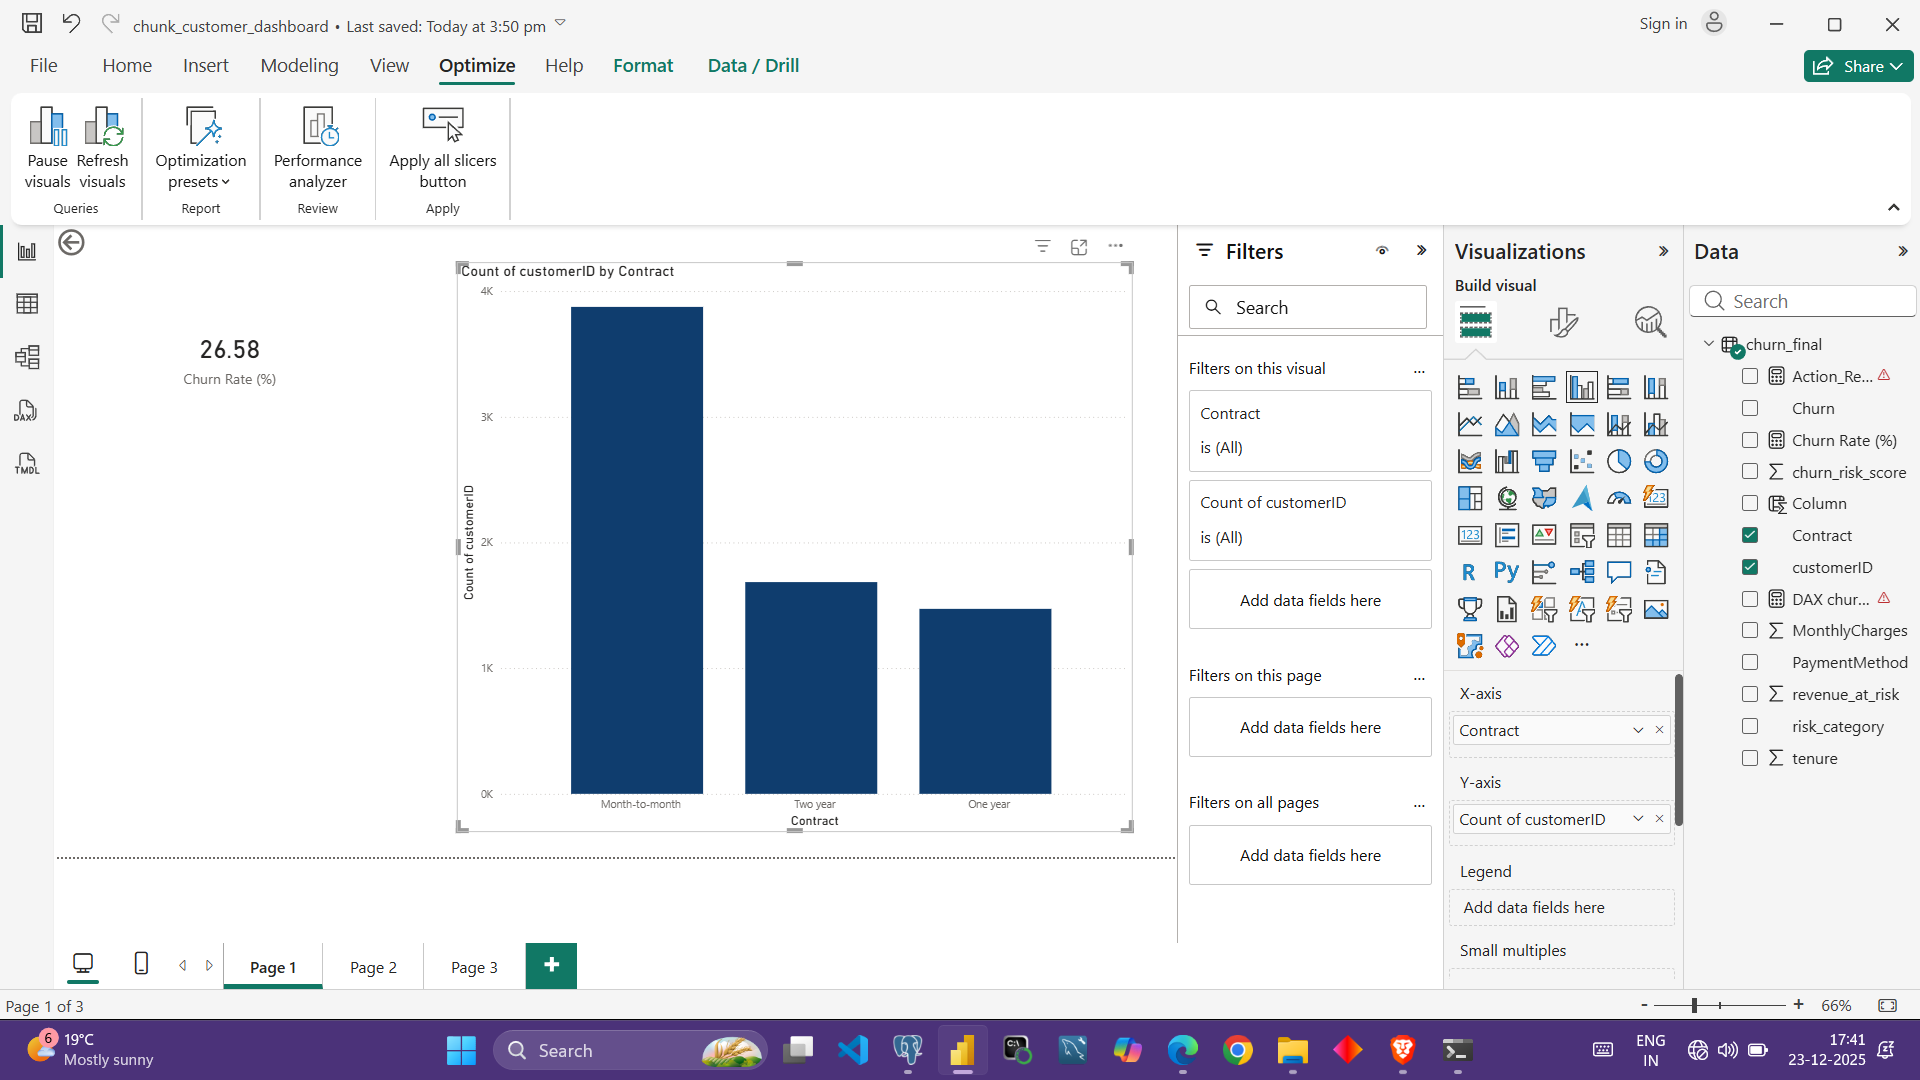

The dashboard page shown, as its layout file describes it:
{"tool":"powerbi","page":{"name":"Page 1","canvas":[1280,720],"ordinal":0},"visuals":[{"type":"clusteredColumnChart","fields":{"Category":["churn_final.Contract"],"Y":["CountNonNull(churn_final.customerID)"]},"box":[459.1,42.3,770.2,649.4],"z":1000},{"type":"card","fields":{"Values":["churn_final.Churn Rate (%)"]},"box":[0,148,407.8,543.7],"z":1001},{"type":"actionButton","box":[0,0,100,40],"z":1002}]}

Visuals, with their boxes on the page's 1280x720 design canvas (x1, y1, x2, y2). These are canvas units, not pixel positions in the 1920x1080 screenshot, which may show the page scaled, cropped or inside an application window:
clusteredColumnChart - churn_final.Contract x CountNonNull(churn_final.customerID): {"x1": 459, "y1": 42, "x2": 1229, "y2": 692}
card - churn_final.Churn Rate (%): {"x1": 0, "y1": 148, "x2": 408, "y2": 692}
actionButton: {"x1": 0, "y1": 0, "x2": 100, "y2": 40}
